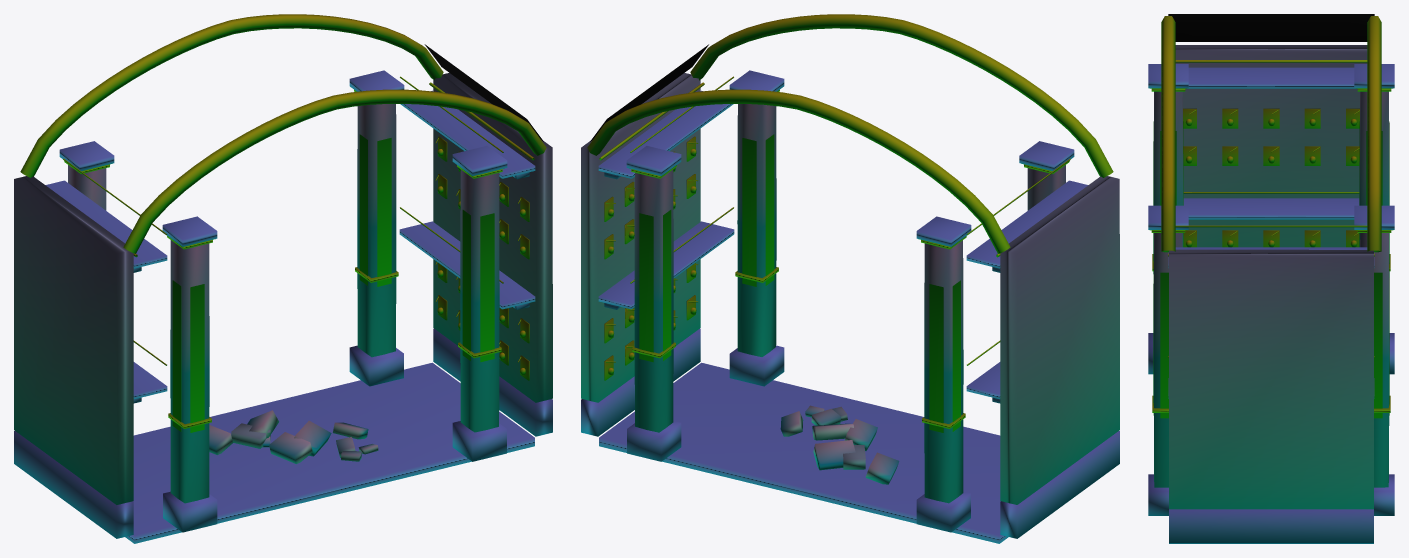
The model's file is lowlight_nave_bay_broken.glb.
3 renders of one model, left to right at view 1: azimuth 30°, elevation 25°; view 2: azimuth 150°, elevation 25°; view 3: azimuth 270°, elevation 25°, orthographic.
Parts seen in each view (by area): view 1: lowlight_nave_bay_broken; view 2: lowlight_nave_bay_broken; view 3: lowlight_nave_bay_broken.
Boxes of the visible parts, box(x1,y1,x2,y2) form: lowlight_nave_bay_broken: box(14, 14, 552, 543); lowlight_nave_bay_broken: box(581, 14, 1119, 543); lowlight_nave_bay_broken: box(1148, 14, 1394, 543).
Size of what is drawn, in the model's own units: 19.57 by 17.13 by 9.56.
